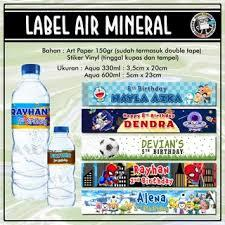BIODEGRADABLE: (6, 57, 56, 202), (44, 122, 77, 211)
